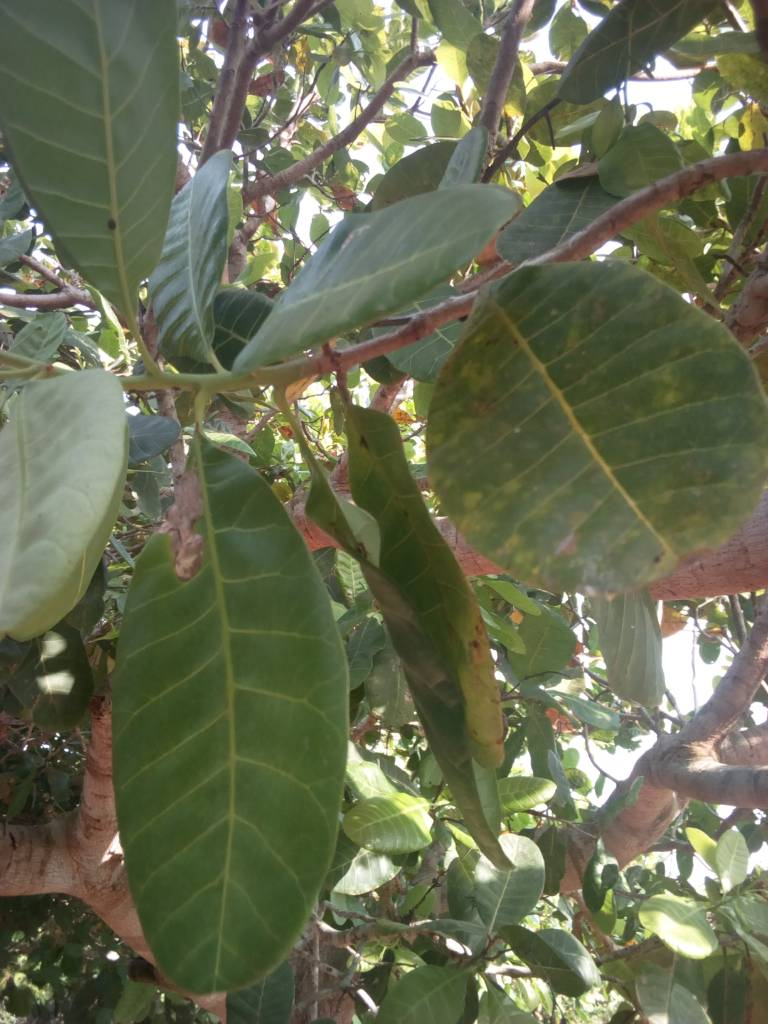Dysdercus wolkerii: (72, 427, 391, 1007)
